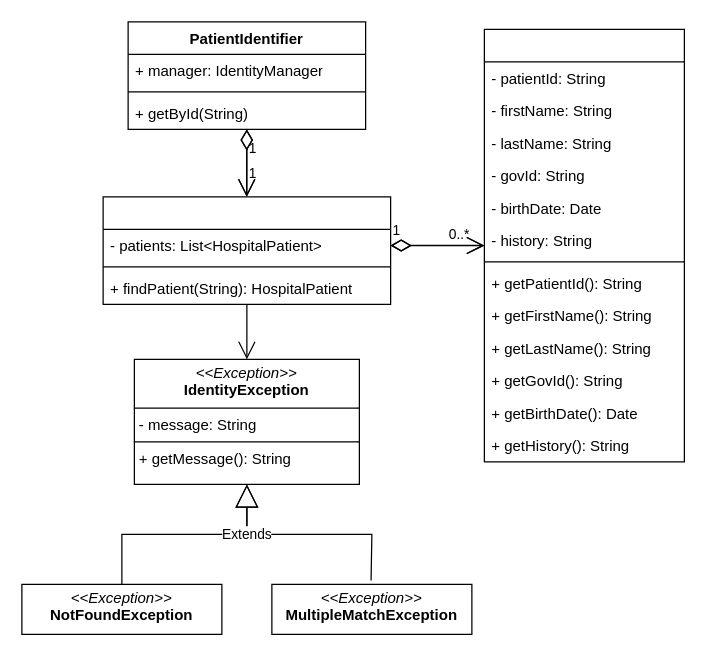
Some shapes in this 706 by 656 pixel diagram are drawn without their labels. The shapes that lost their labels are listed below. From the top down, each one's box as (x1, y1, x2, y2) in pixels, then its label:
(102, 196, 391, 304): IdentityManager
(483, 28, 684, 462): HospitalPatient
